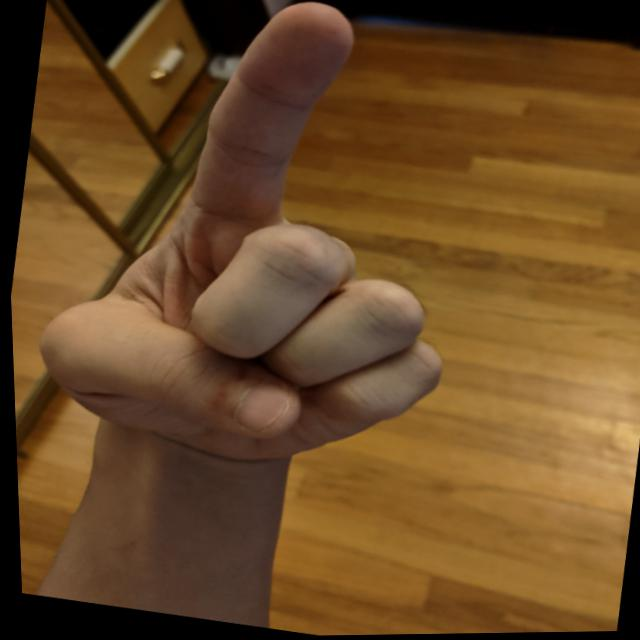D: (4, 0, 506, 507)
